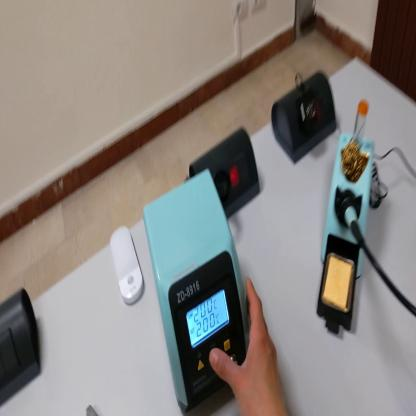hand: (208, 273, 285, 416)
socket: (190, 121, 262, 223), (272, 68, 339, 164)
welder base: (315, 95, 380, 338)
welder probe tip: (341, 188, 364, 247)
welder station: (145, 175, 249, 416)
